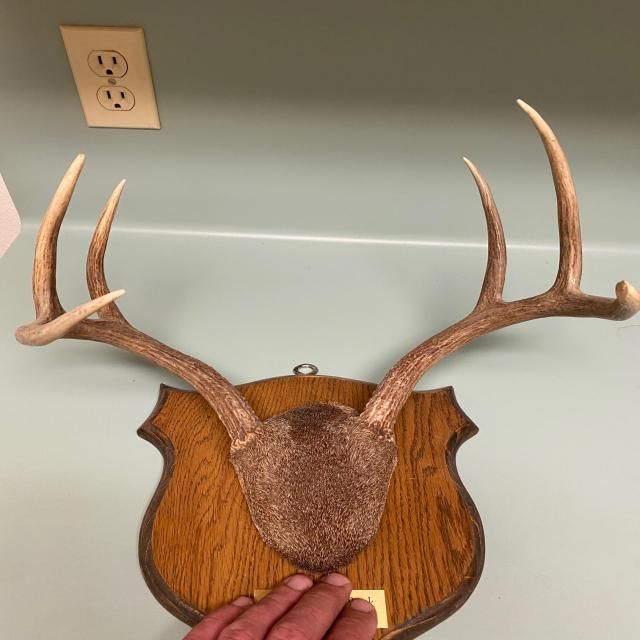L-F: (355, 279, 639, 443)
L-G1: (462, 156, 507, 311)
L-G2: (515, 98, 583, 295)
R-F: (15, 290, 263, 453)
R-G2: (32, 153, 86, 320)
